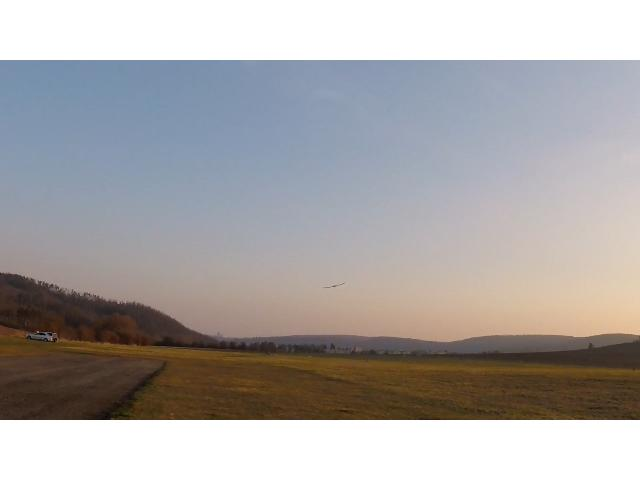Anti-Drone: (323, 281, 345, 289)
